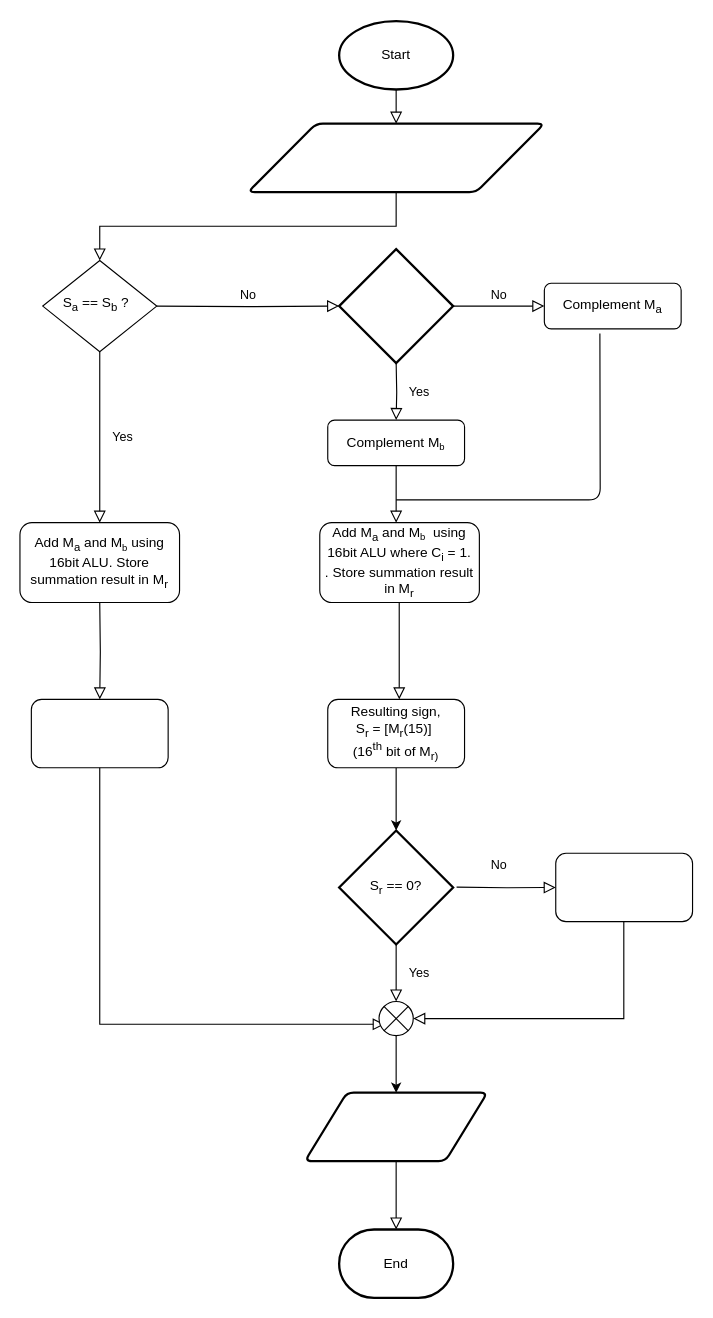
Some shapes in this 713 by 1318 pixel diagram are drawn without their labels. Here are the shapes that lost their labels. From the top down, the centre of each, then its label:
(395,157): Take input M a (16bit), M b (16 bit) and S a (1bit), S b (1bit).
(395,305): S b == 1 ?
(99,733): Resulting sign, S r = S a
(624,887): Complement M r and add 1 using another 16 bit ALU
(395,1126): Output M r and S r
